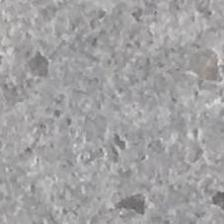Non_Crack: (35, 38, 188, 193)
